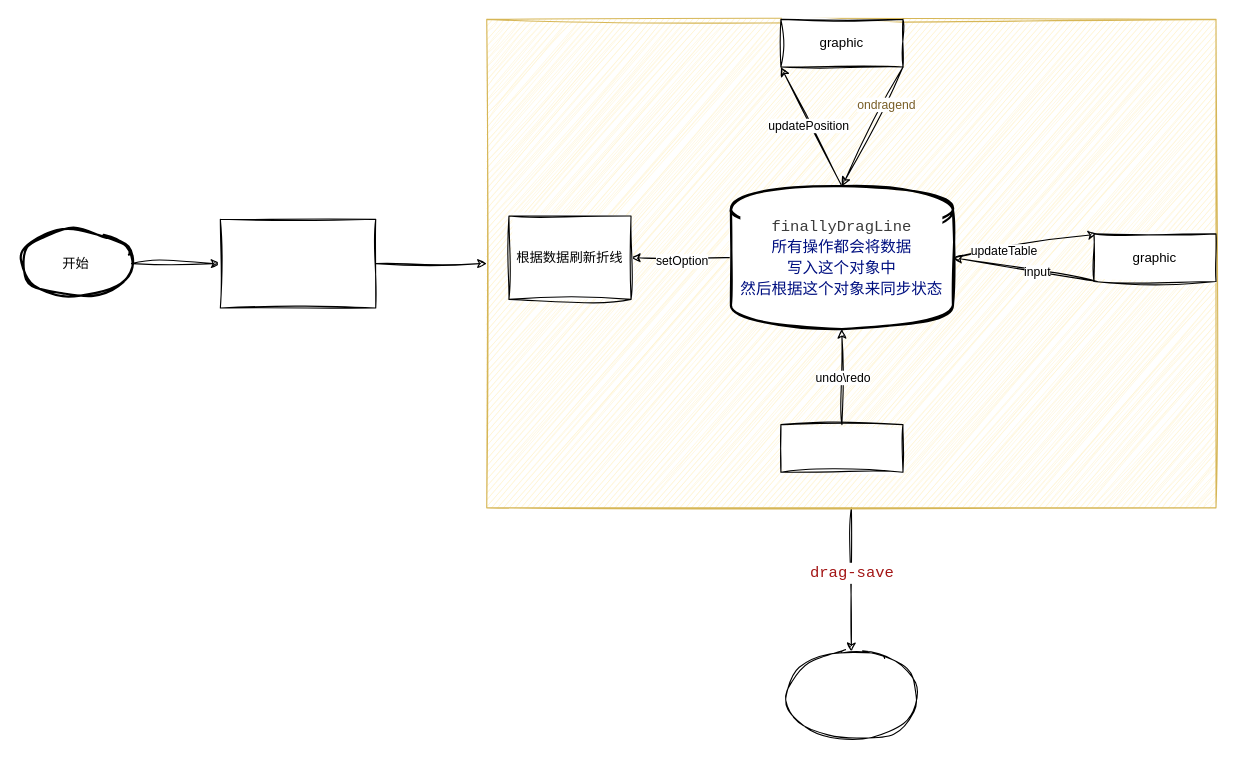
This 1235x760 diagram has some shape labels left out. Each missing label, with the box of its shape:
initChart 解析Option的数据和初始化一系列状态: (219, 218, 376, 308)
拖拽结束，保存后获取最终数据。: (784, 651, 918, 741)
撤销、撤回: (780, 423, 903, 472)
